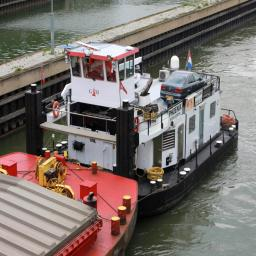tugboat: (24, 38, 243, 228)
